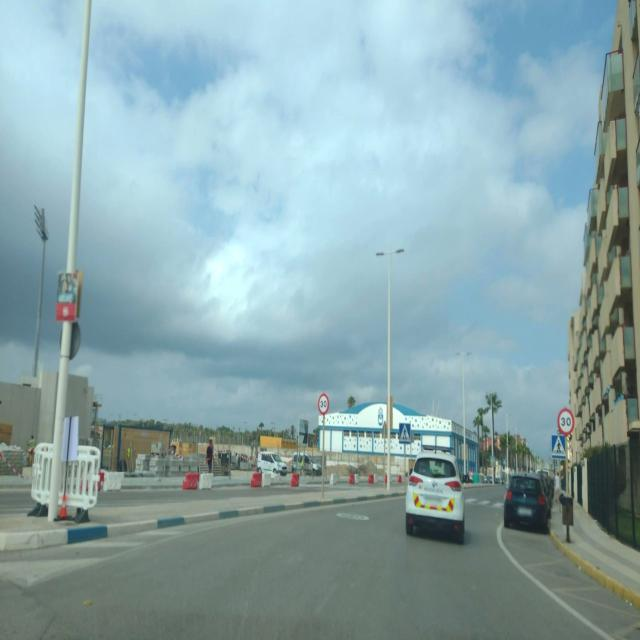car: (404, 450, 466, 542), (502, 472, 550, 534), (257, 450, 288, 474), (290, 452, 321, 476)
